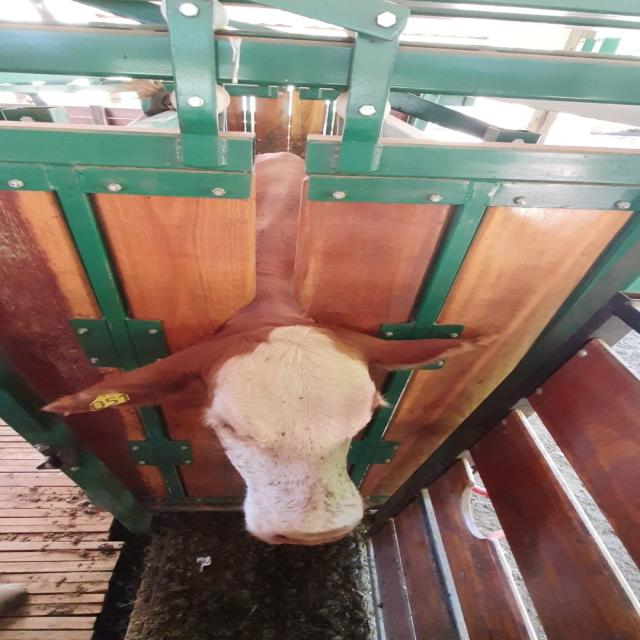cowFace: (208, 324, 380, 544)
